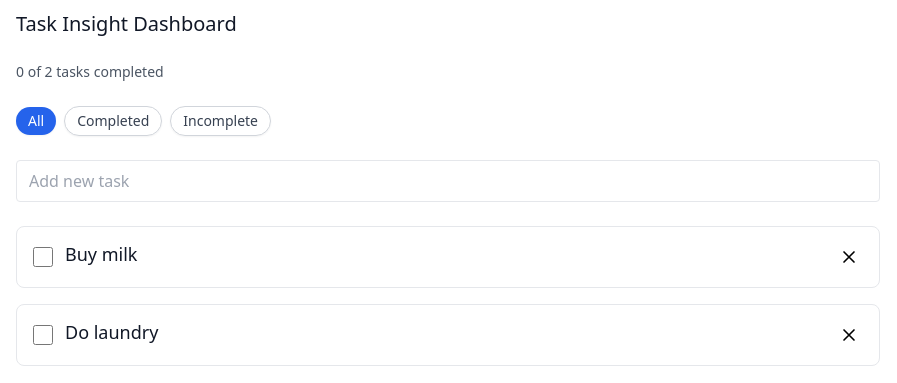
Test: <App /> › task title editing › pressing Enter updates the task title
# Enter edit mode
Click the heading "Buy milk". click: (101, 254)
box: x1=65 y1=242 x2=137 y2=266
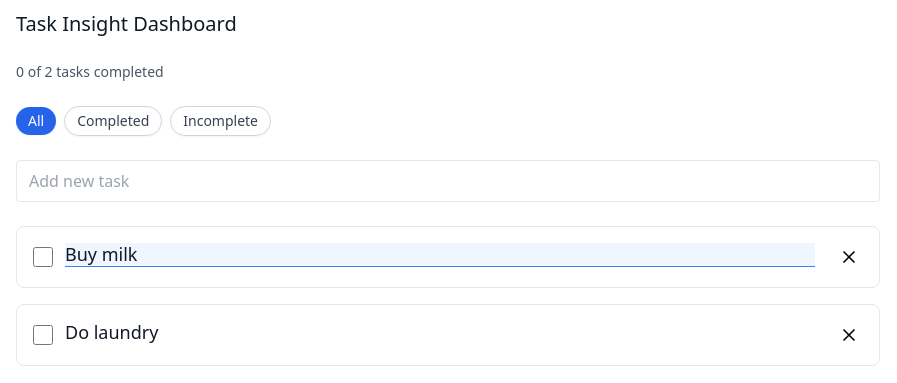
# Action: change value and press Enter
Replace the text in the field named "Edit task title" with "Buy oat milk". click: (440, 255)
box: x1=65 y1=243 x2=815 y2=266
Then press Enter
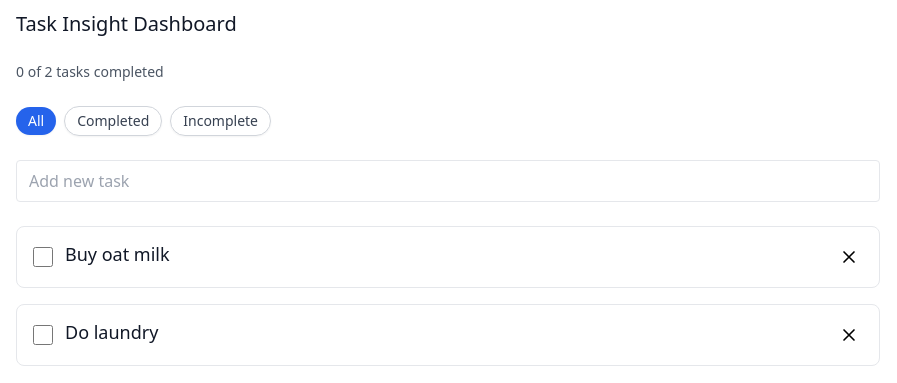
Now the heading "Buy oat milk" is shown, box x1=65 y1=242 x2=170 y2=266
